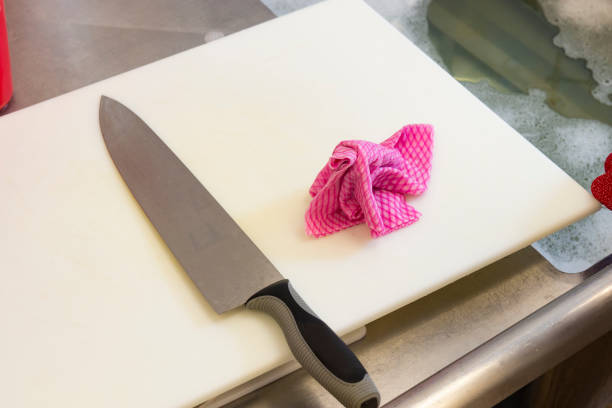knife: (96, 92, 382, 408)
